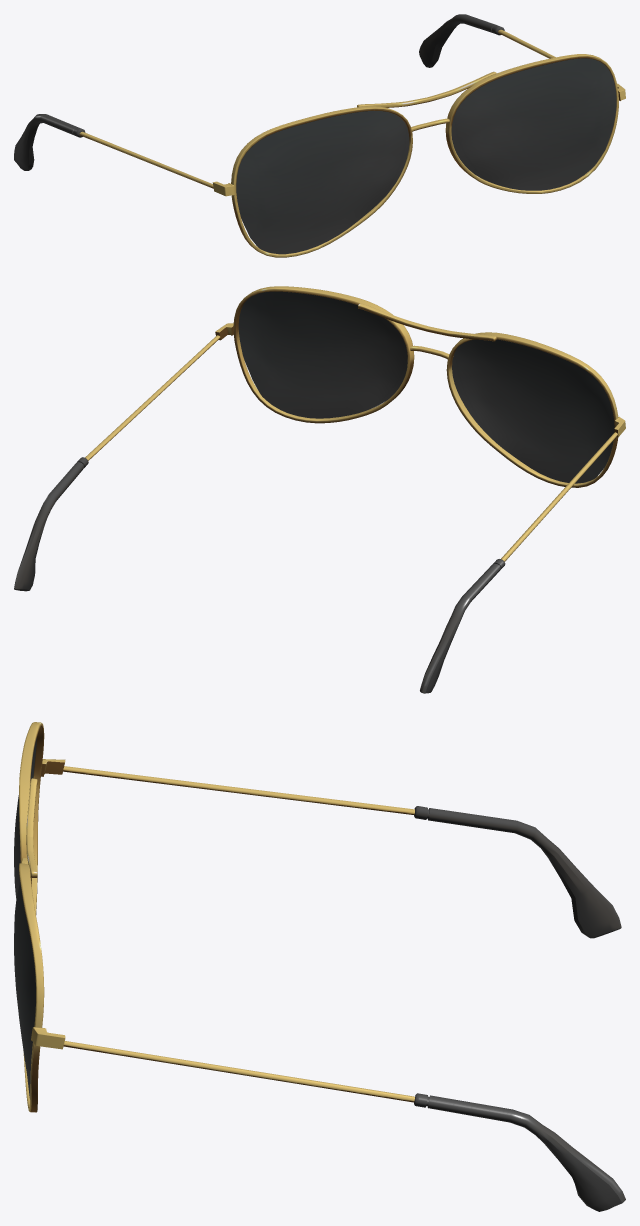
The model's file is Aviator_Sunglasses.fbx.
The picture shows the model from 3 angles, top to bottom: view 1: azimuth 30°, elevation 25°; view 2: azimuth 150°, elevation 25°; view 3: azimuth 270°, elevation 25°; orthographic projection. The views are drawn at different scales.
Visible parts, largest first — view 1: polySurface357, polySurface2, polySurface16, polySurface6, polySurface17; view 2: polySurface357, polySurface2, polySurface16, polySurface6; view 3: polySurface16, polySurface2, polySurface357, polySurface17, polySurface6.
Boxes of the visible parts, x1=… form: polySurface357: x1=236, y1=58, x2=616, y2=254; polySurface2: x1=231, y1=54, x2=618, y2=257; polySurface16: x1=14, y1=14, x2=555, y2=188; polySurface6: x1=357, y1=71, x2=496, y2=107; polySurface17: x1=212, y1=83, x2=625, y2=196; polySurface357: x1=238, y1=291, x2=614, y2=483; polySurface2: x1=233, y1=286, x2=618, y2=487; polySurface16: x1=14, y1=335, x2=617, y2=693; polySurface6: x1=358, y1=303, x2=496, y2=341; polySurface16: x1=63, y1=766, x2=625, y2=1211; polySurface2: x1=19, y1=722, x2=44, y2=1112; polySurface357: x1=14, y1=738, x2=36, y2=1099; polySurface17: x1=31, y1=759, x2=65, y2=1049; polySurface6: x1=26, y1=778, x2=37, y2=877.
Bounding box in the file's own units: 4.79 × 1.92 × 4.21.
